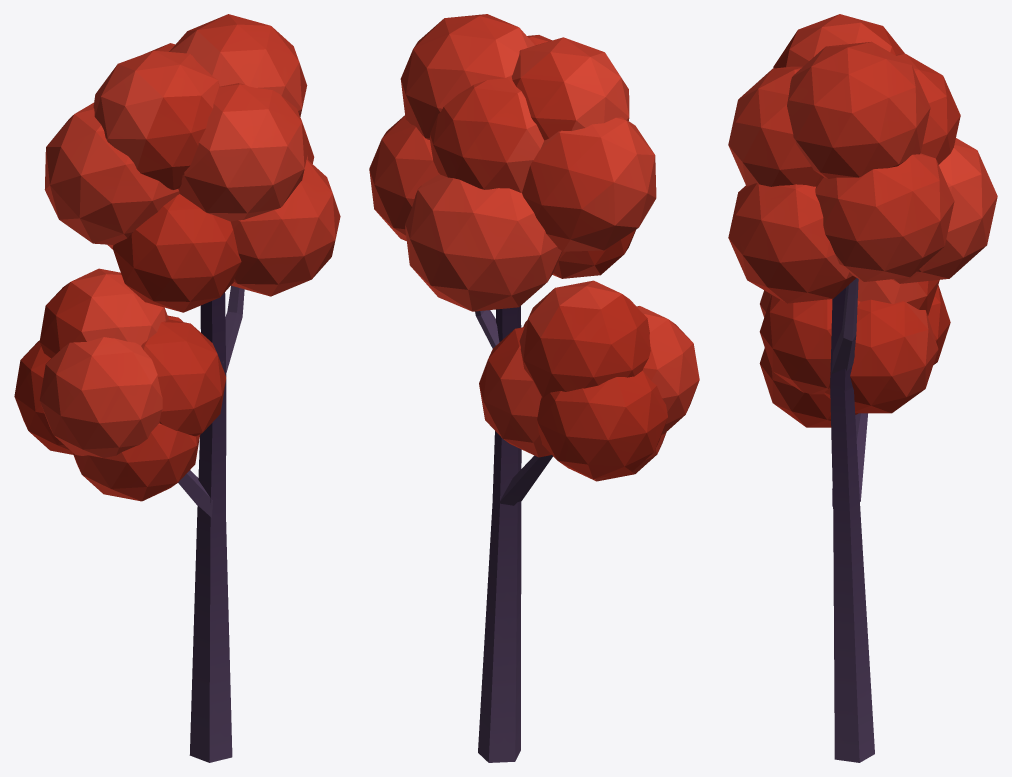
The model's file is tree-ddf7f5e4.glb.
3 renders of one model, left to right at view 1: azimuth 30°, elevation 25°; view 2: azimuth 150°, elevation 25°; view 3: azimuth 270°, elevation 25°, orthographic.
Parts seen in each view (by area): view 1: Tree; view 2: Tree; view 3: Tree.
Part boxes in pixels (box(x1,y1,x2,y2)): Tree: box(14, 14, 340, 762); Tree: box(369, 14, 699, 762); Tree: box(728, 14, 997, 762).
Size of the model in its own units: 3.93 by 9.77 by 3.33.
1 material, 1 textured.
